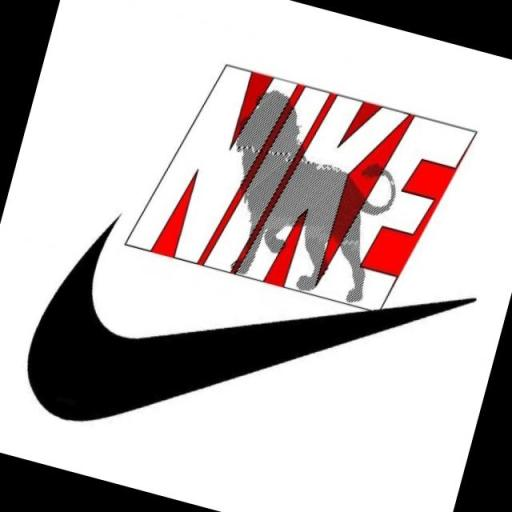Nike: (11, 189, 482, 512), (120, 46, 479, 332)
